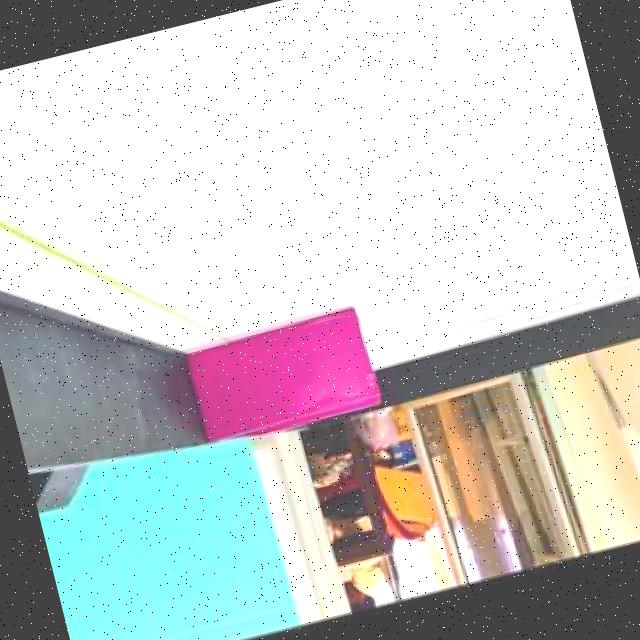xparking: (195, 308, 378, 434)
